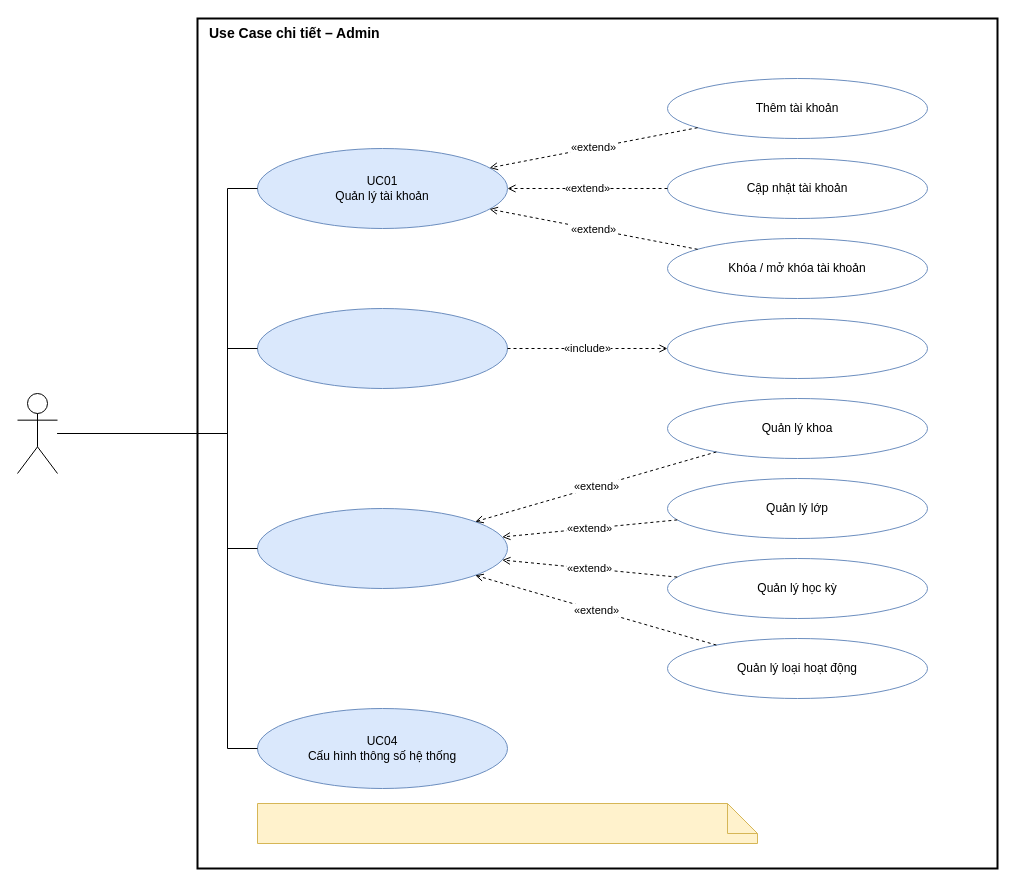
Image size: 1016x886. Some labels were removed from this diagram. Here are the shapes that lost their labels. From the top down, the centre of each, then its label:
At [382,348]: "UC02 Phân quyền người dùng".
At [797,348]: "Chọn vai trò cho tài khoản".
At [37,433]: "Admin".
At [382,548]: "UC03 Quản lý thông tin chung".
At [507,823]: "Ghi chú: UC01 - UC04 đều «include» UC10 (phải đăng nhập trước khi sử dụng) .".
